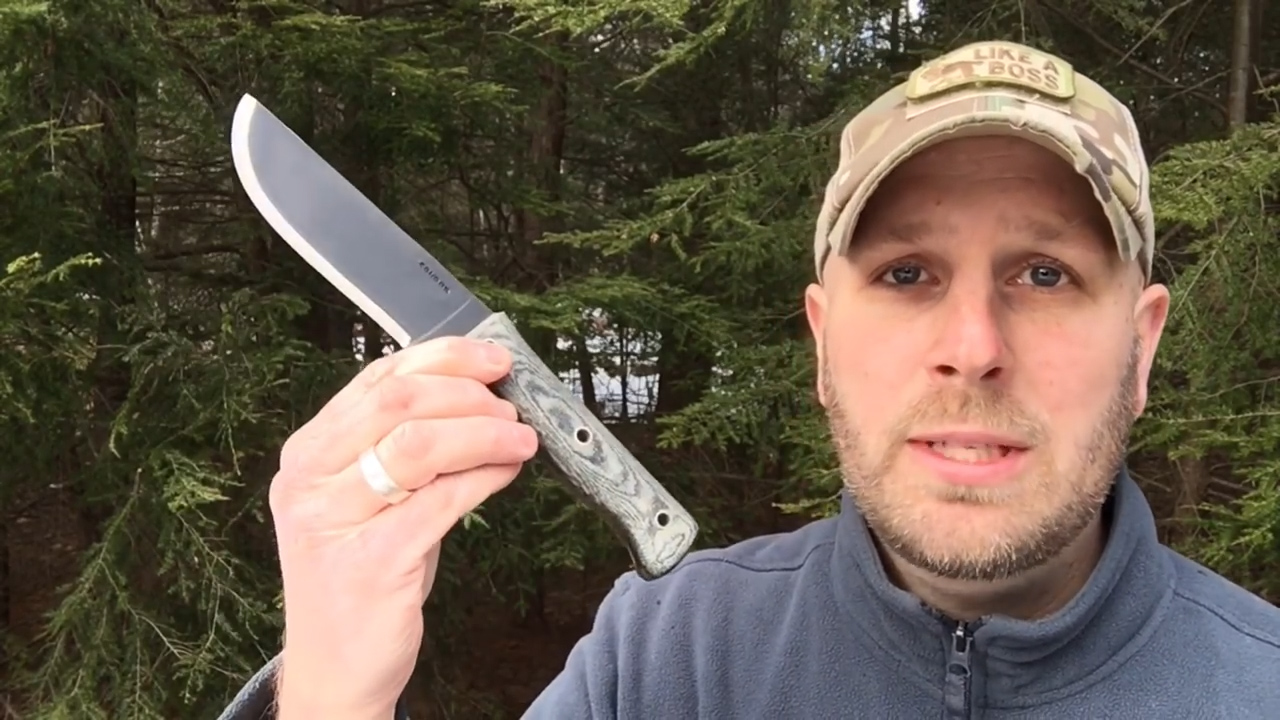knife: (202, 82, 526, 458)
